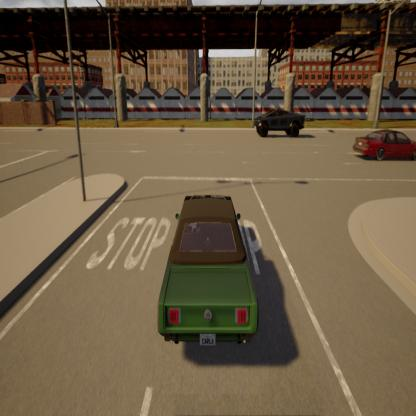Cars: (153, 186, 267, 357), (345, 121, 416, 164), (251, 103, 310, 143)
